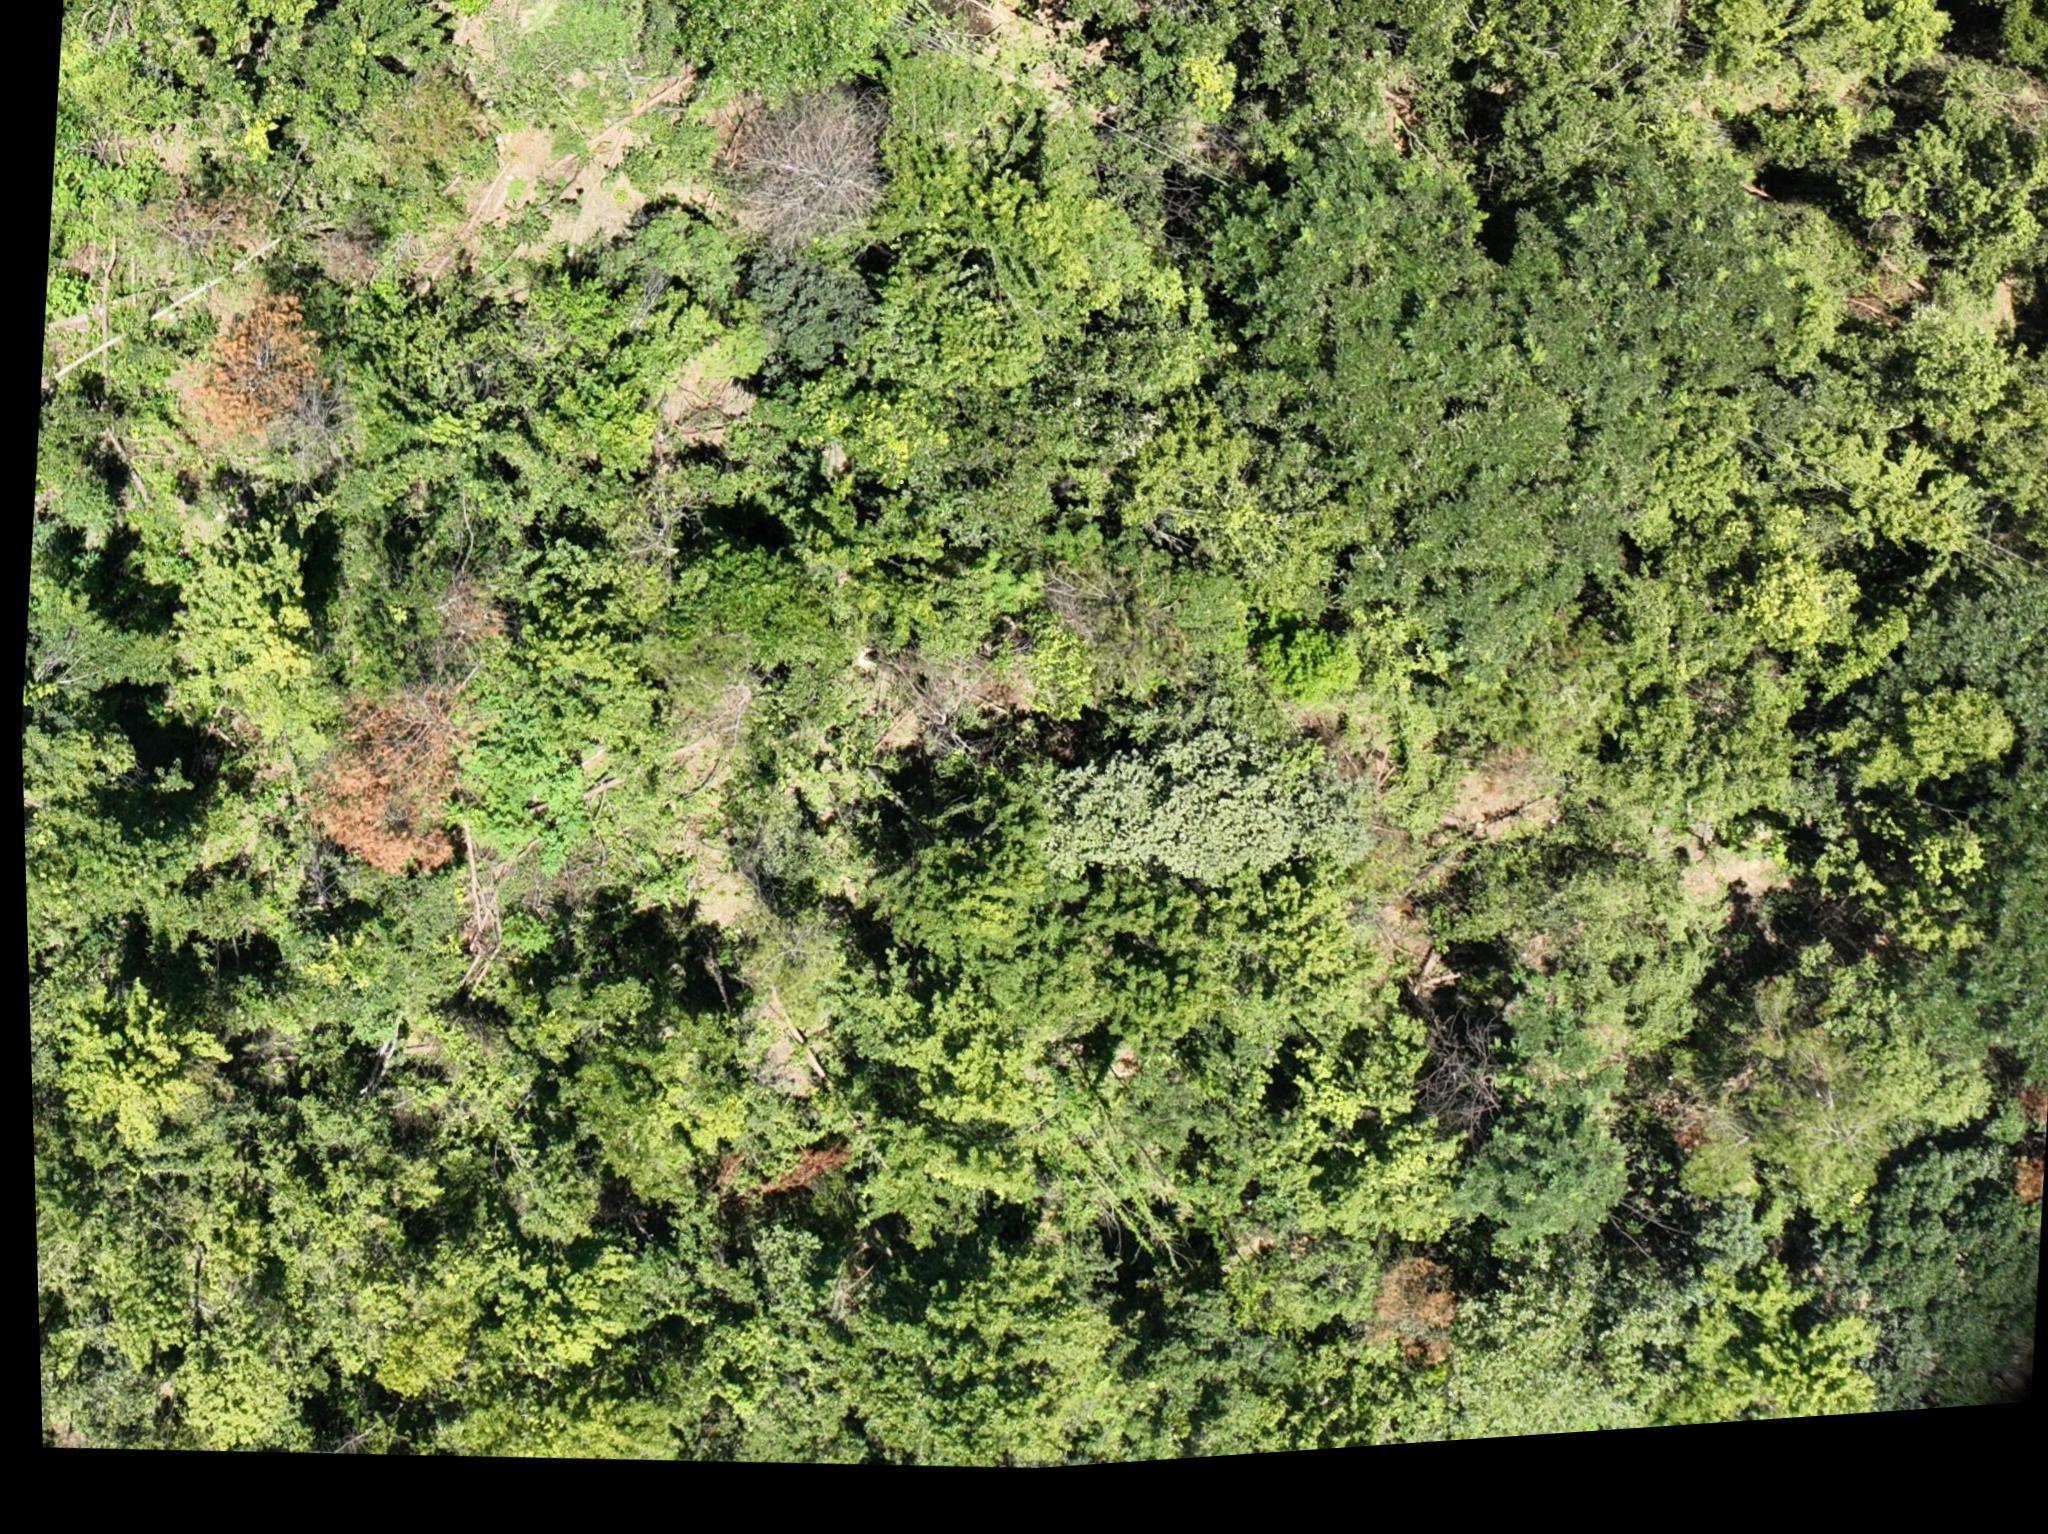dead: (715, 85, 893, 264)
heavy: (298, 680, 471, 886), (187, 284, 321, 445)
